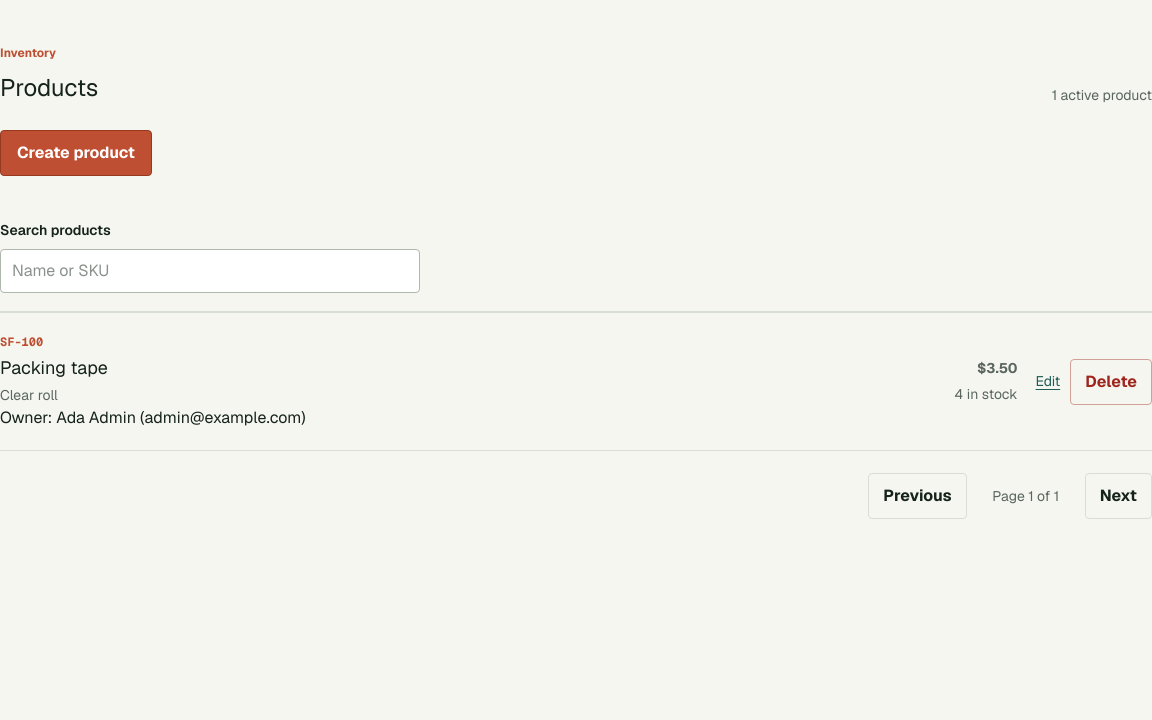
Test: ProductsScreen › preserves values and surfaces duplicate SKU errors
The width and height of the screenshot is (1152, 720).
Expected: the heading "Packing tape" is shown, [0, 356, 108, 379]
Click the button "Create product": x=76, y=153 [0, 130, 152, 176]
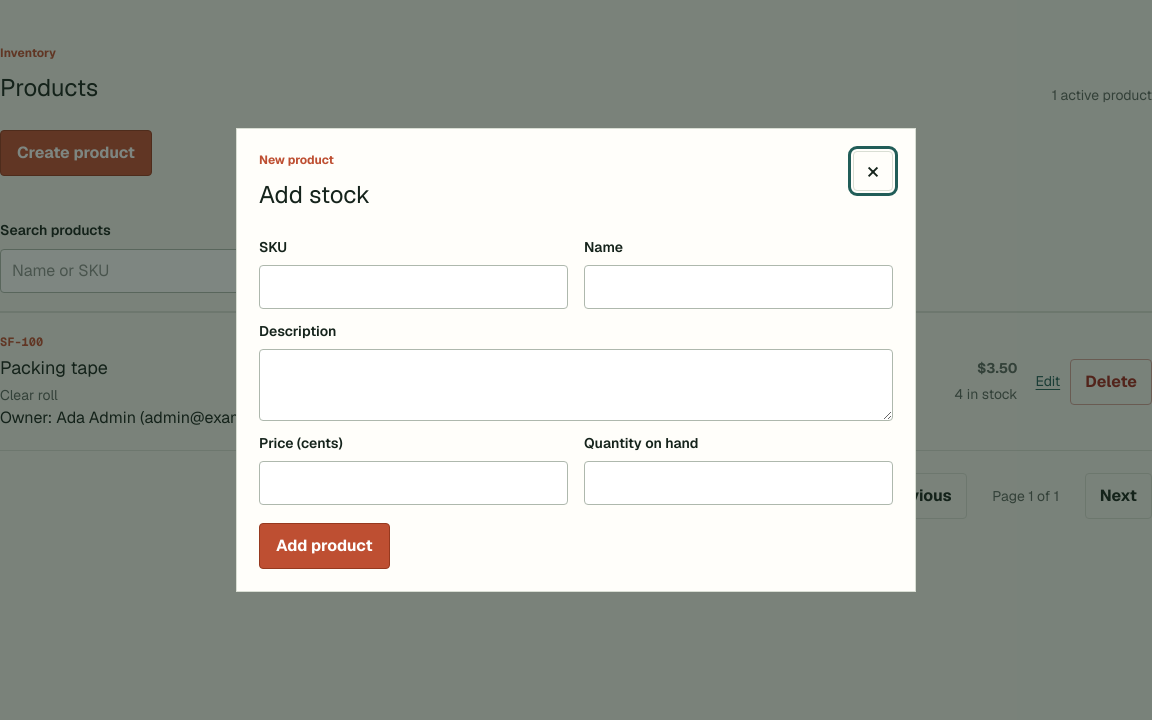
In the field labelled "SKU": x=414, y=287 [259, 265, 568, 309], type "SF-200"
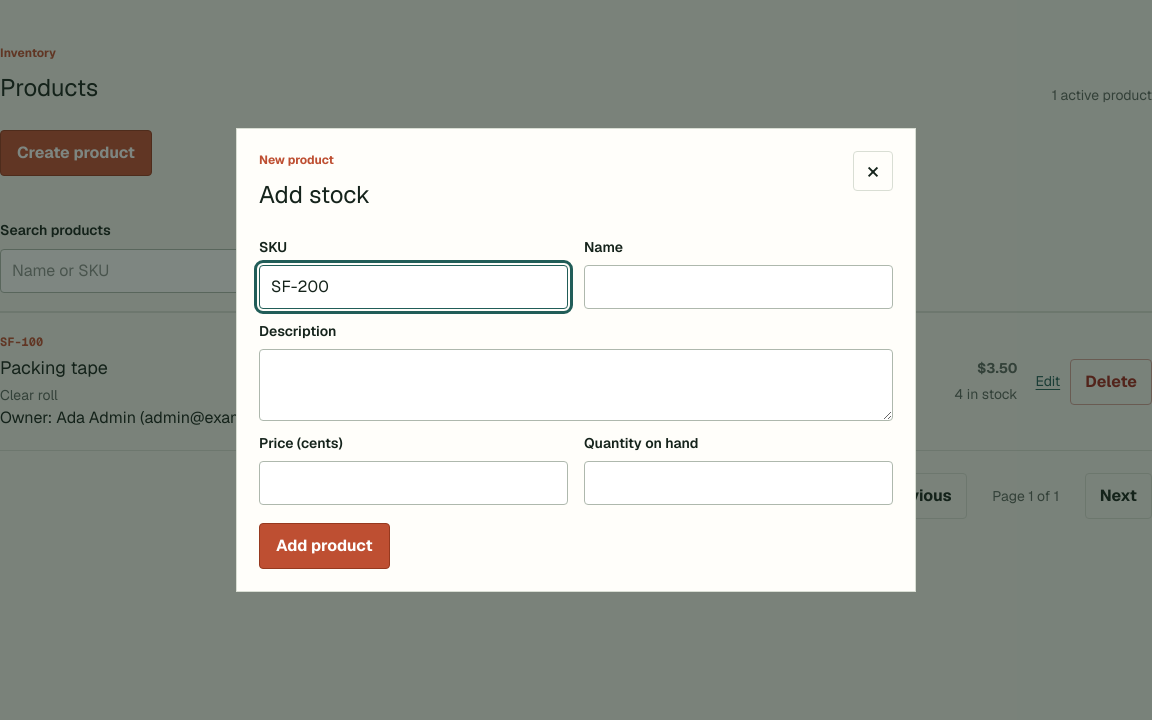
In the field labelled "Name": x=738, y=287 [584, 265, 893, 309], type "Shipping box"
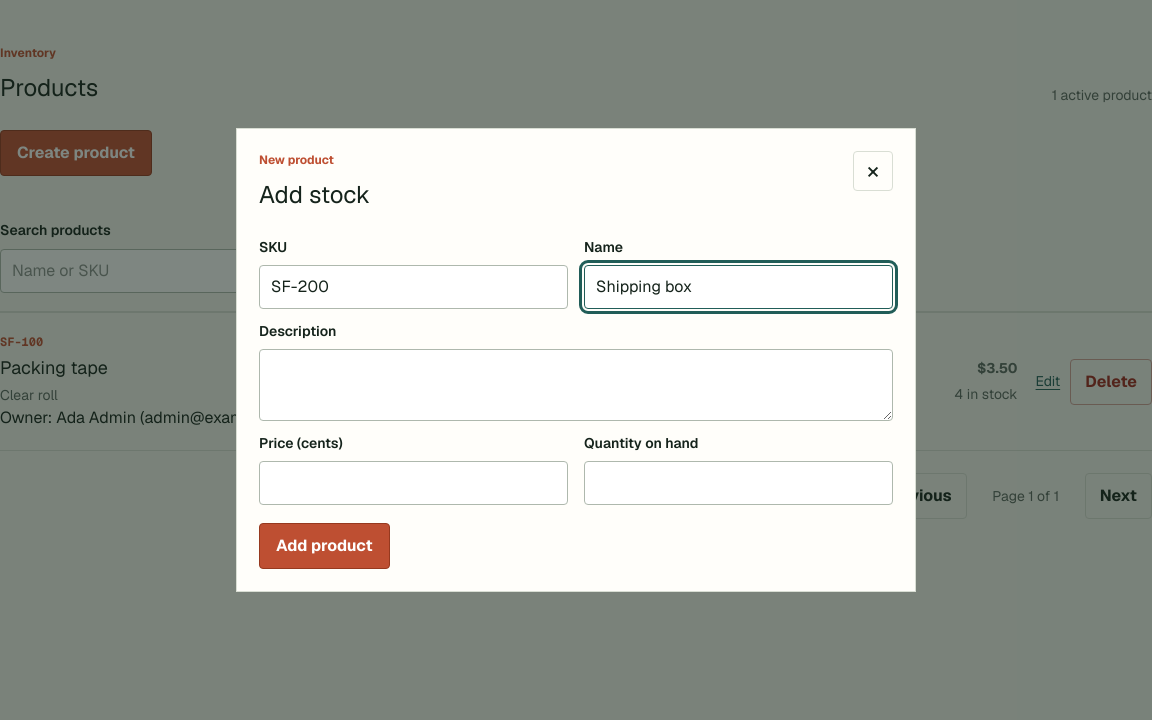
In the number field labelled "Price (cents)": x=414, y=483 [259, 461, 568, 505], type "225"
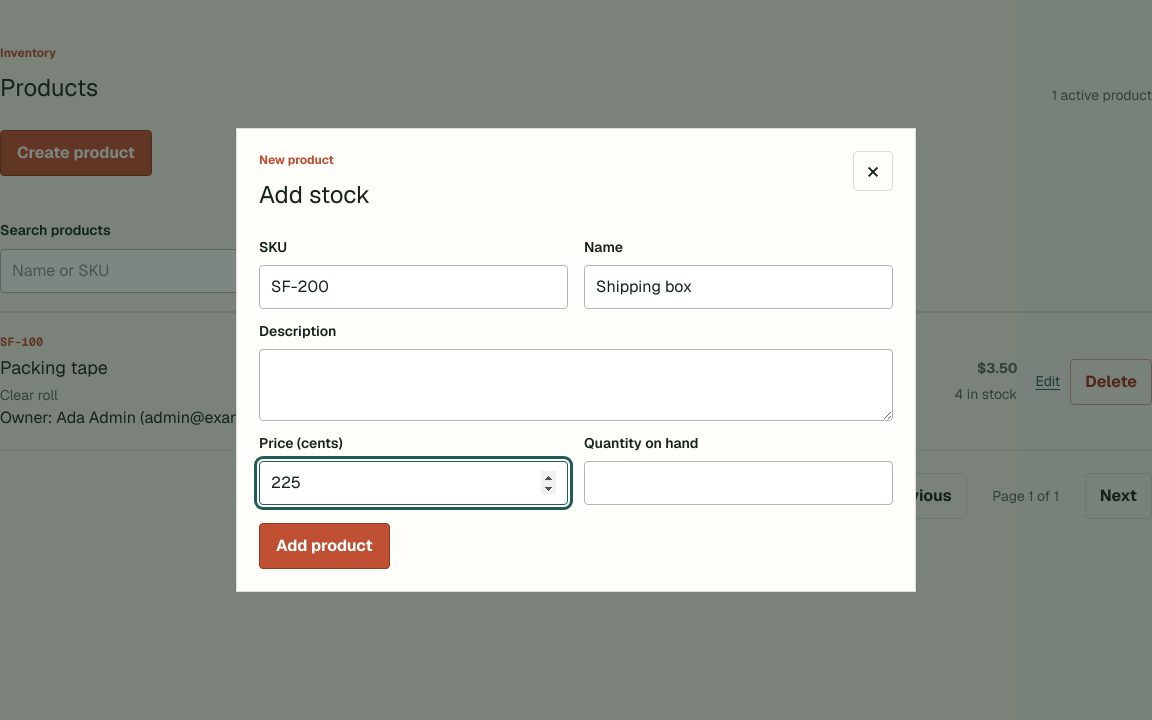
In the number field labelled "Quantity on hand": x=738, y=483 [584, 461, 893, 505], type "8"
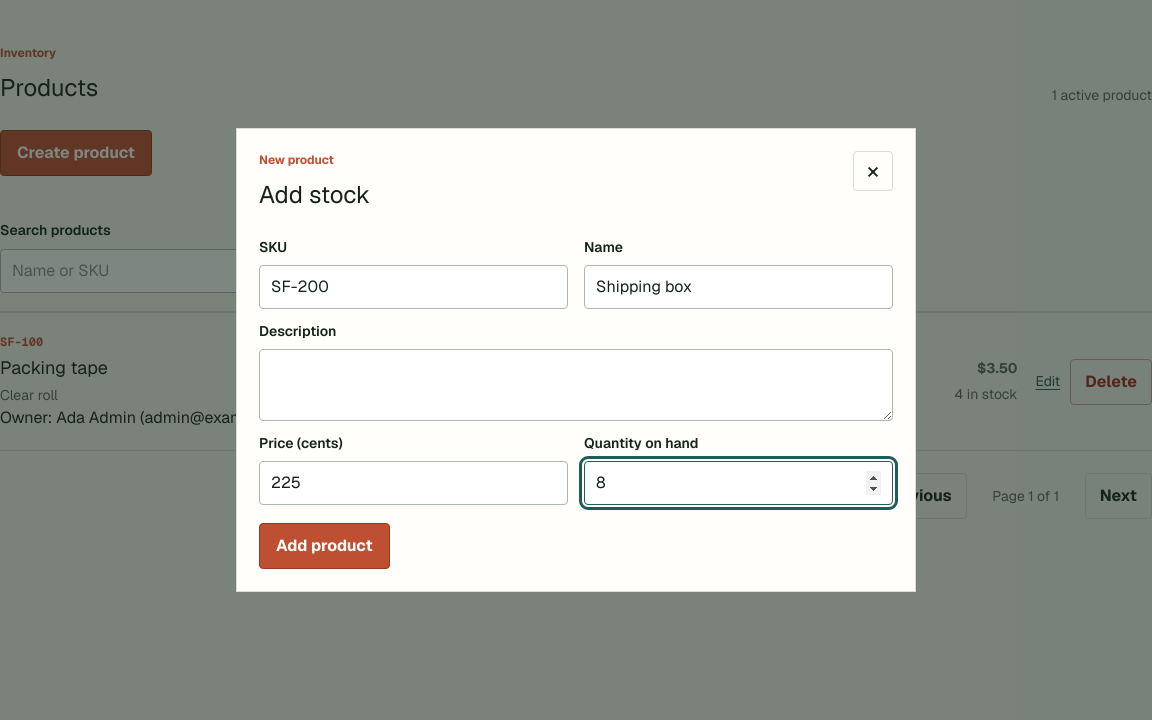
Click the button "Add product": x=324, y=546 [259, 523, 390, 569]
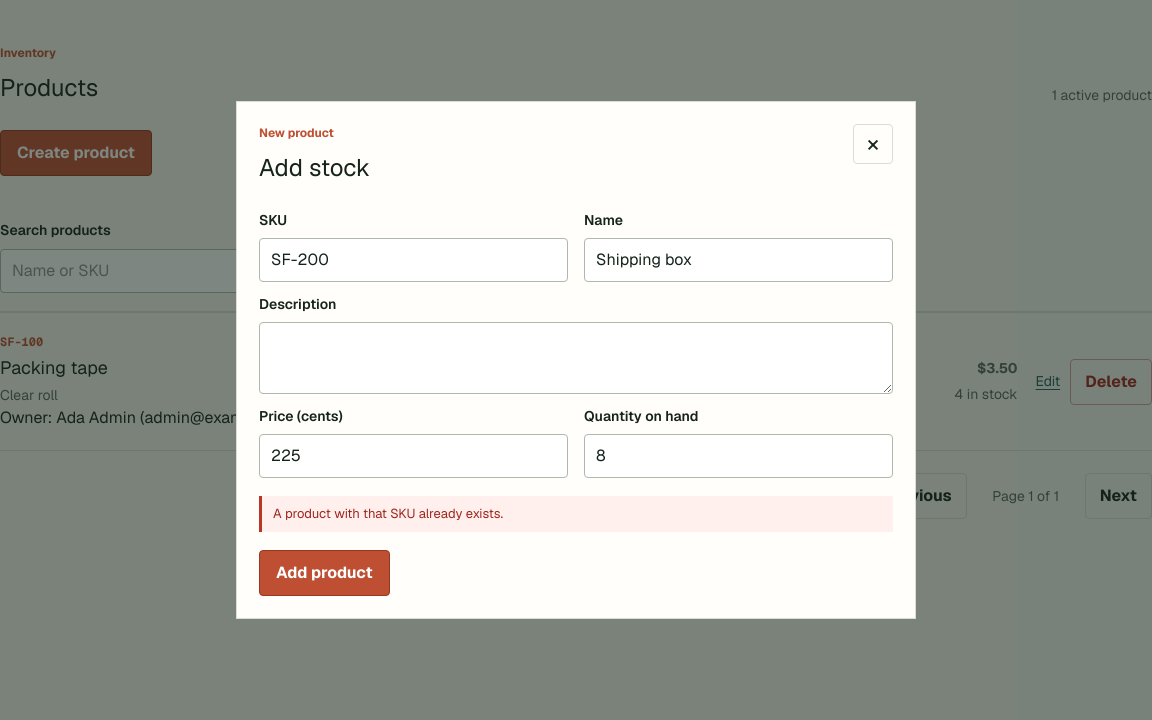
Expected: the message reads "A product with that SKU already exists.", [273, 505, 503, 522]
